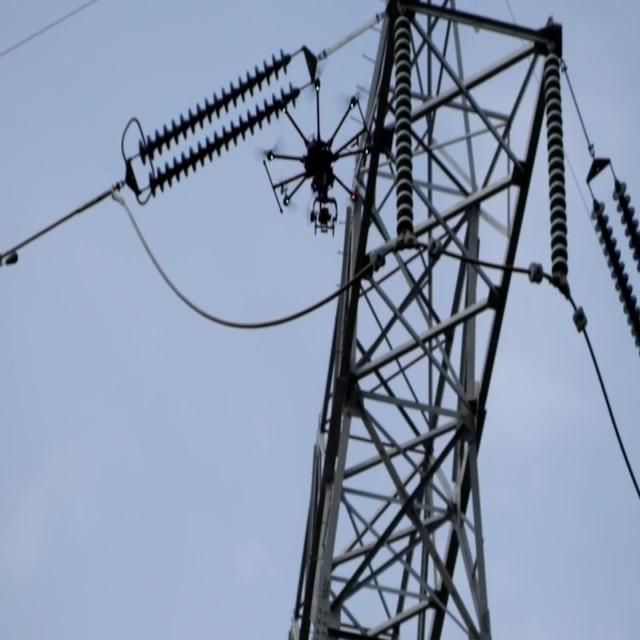drone: (262, 76, 372, 238)
